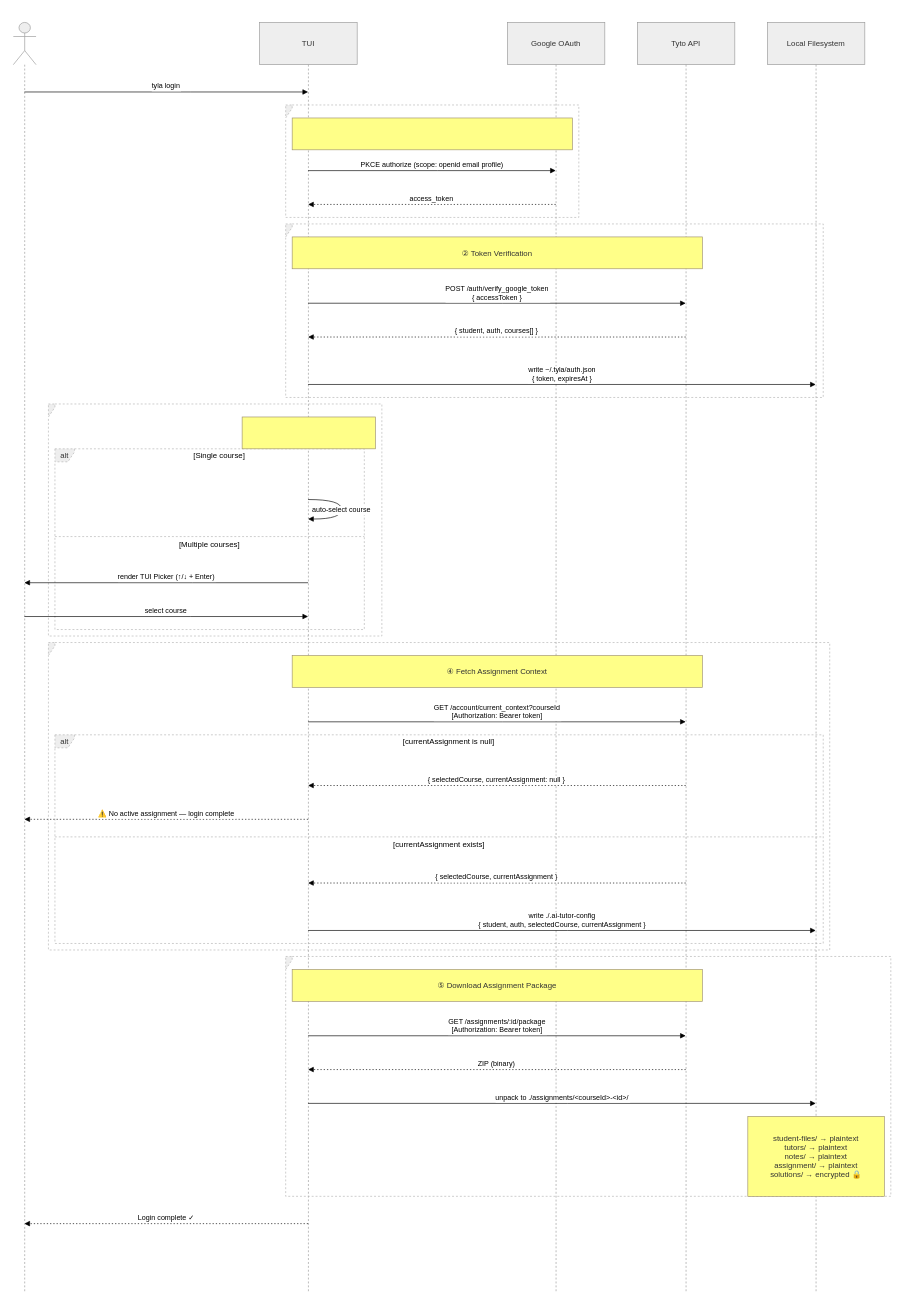
Image size: 902x1303. Some labels were removed from this diagram. The shapes that lost their labels are listed below. From the top down, each one's box as (x1, y1, x2, y2) in pixels, then its label:
(292, 117, 572, 150): ① PKCE Authorization
(241, 416, 375, 449): ③ Course Selection (local)
(13, 22, 36, 1292): Student
